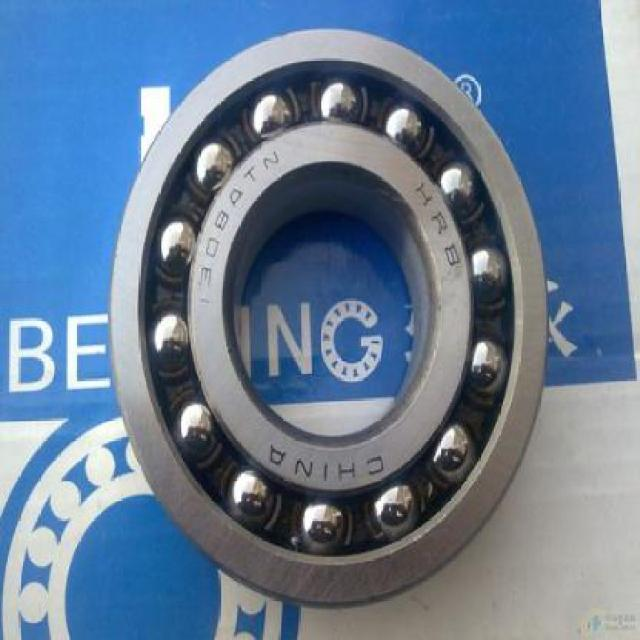Bearing: (107, 26, 552, 611)
